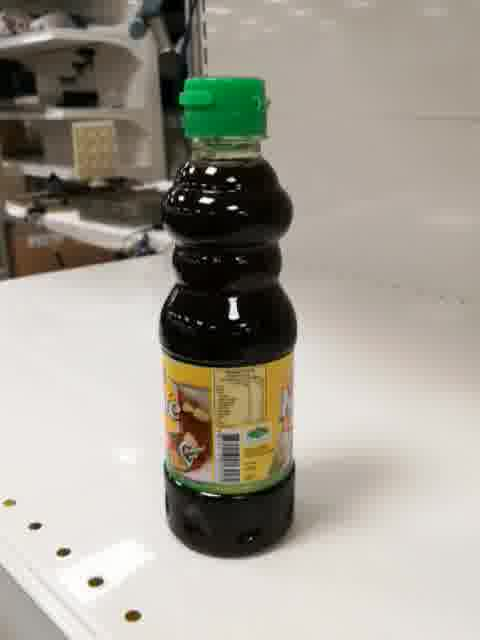cookingoil: (156, 72, 300, 562)
